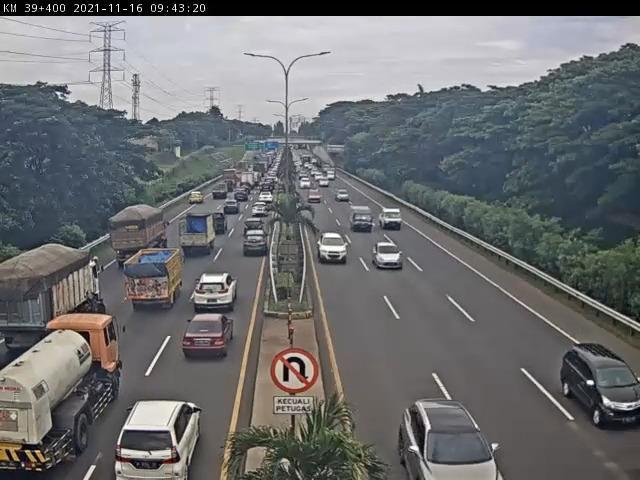car: (401, 400, 503, 480), (118, 398, 204, 480), (552, 341, 639, 422), (183, 313, 233, 366), (199, 266, 240, 309), (318, 232, 350, 267), (374, 239, 405, 271), (385, 204, 411, 230), (247, 231, 267, 259), (211, 210, 227, 237), (185, 189, 207, 206), (248, 215, 263, 236), (226, 198, 241, 218), (310, 187, 325, 204), (333, 185, 350, 199), (254, 203, 266, 220), (262, 191, 273, 204), (304, 176, 307, 186)
truck: (1, 311, 123, 480), (1, 245, 111, 358), (124, 246, 186, 313), (112, 206, 170, 273), (181, 210, 218, 256), (350, 209, 373, 233), (215, 183, 228, 199)
